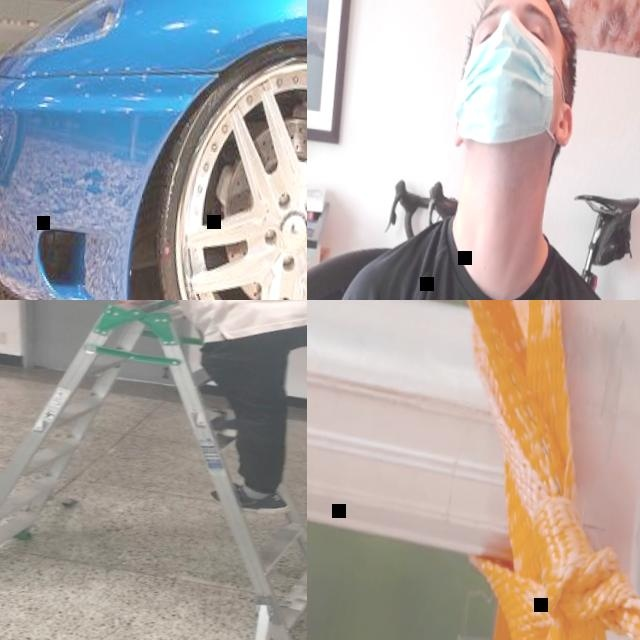Mask: (452, 10, 576, 154)
NO-Hardhat: (479, 0, 588, 28)
NO-Safety Vest: (350, 220, 615, 300)
Person: (307, 0, 640, 300), (57, 300, 307, 514)
vehicle: (0, 0, 307, 300)
